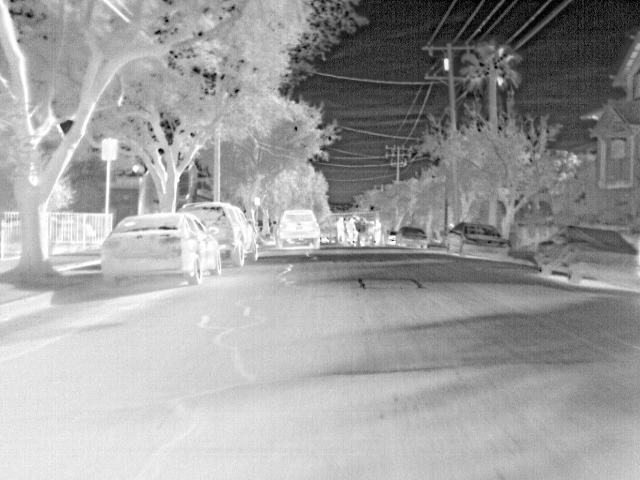car: (102, 212, 218, 287), (533, 222, 640, 290), (176, 204, 259, 266), (277, 207, 323, 250), (450, 223, 509, 255), (397, 227, 431, 247), (387, 228, 399, 244)
person: (333, 215, 347, 243), (370, 218, 384, 246), (346, 216, 359, 244)
